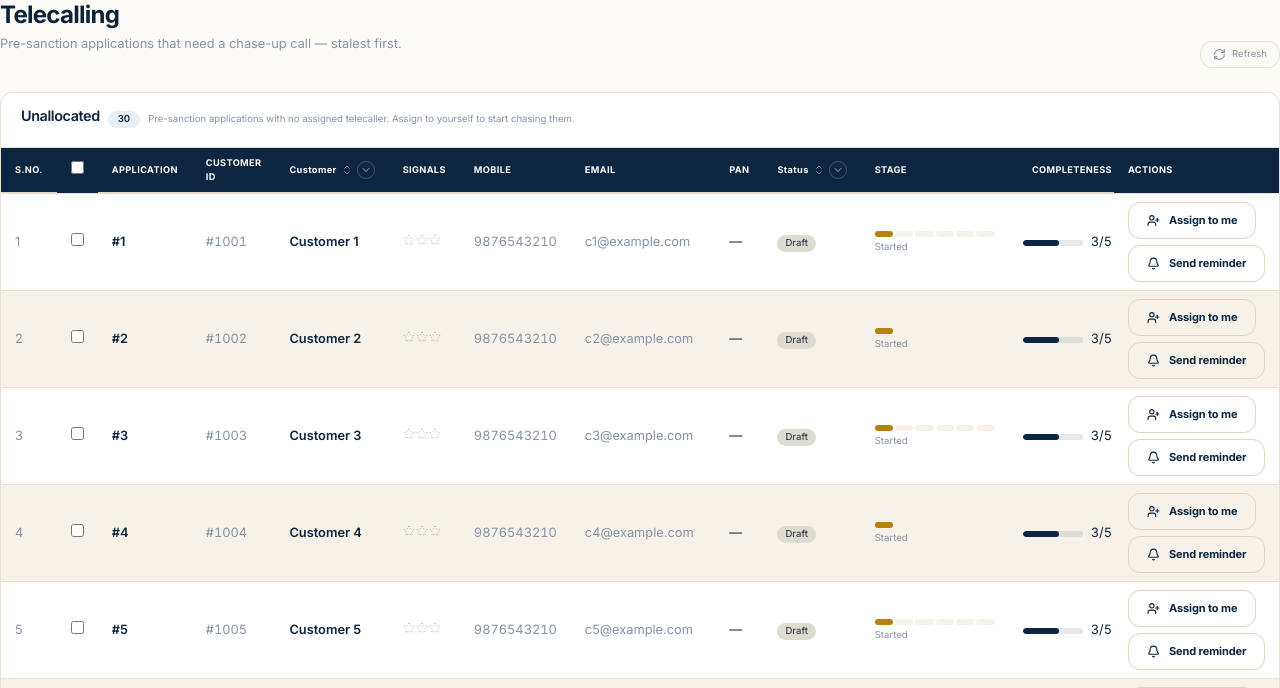
Test case: select all › ticks the visible page only, not every row in the section
The width and height of the screenshot is (1280, 688).
Expected: the button "Customer 1" is shown, [289,232,359,253]
What coordinates should you click on to do the following:
click the checkbox named "Select all on this page"
I would click on:
 (77, 168)
Its box is [71,162,84,174].
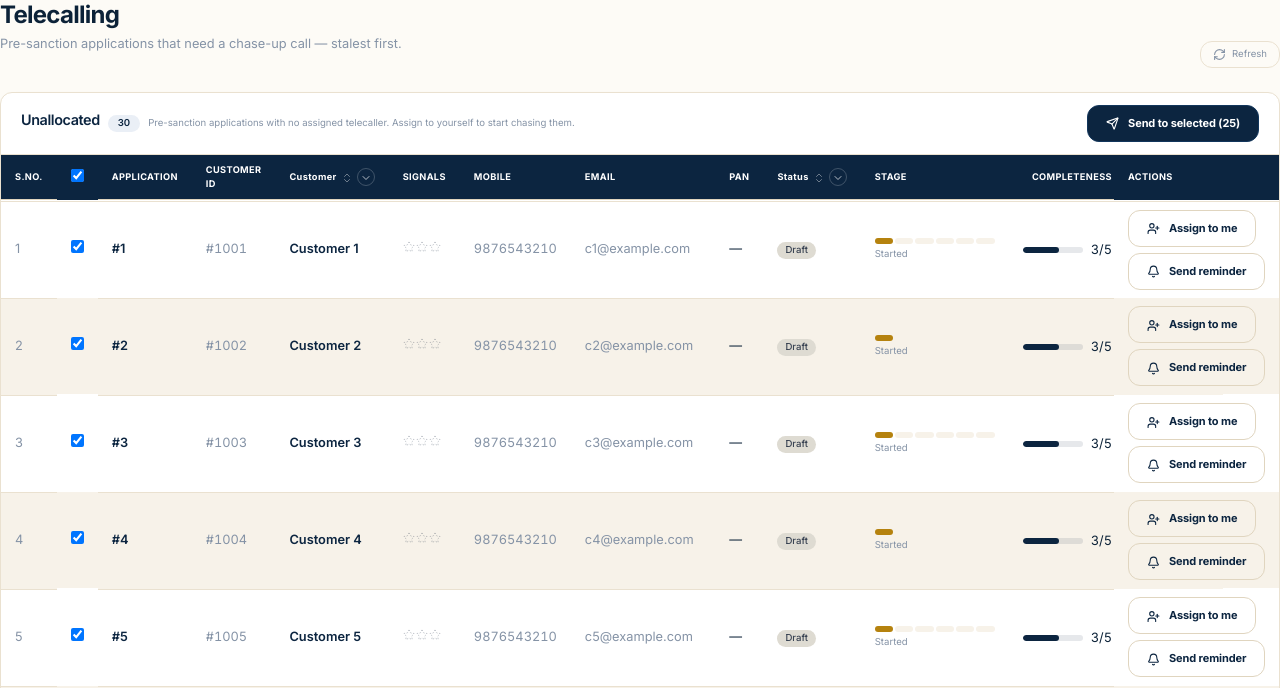
Expected: the button "Send to selected (25)" is shown, [1087,105,1259,142]
What coordinates should you click on to do the following:
click the checkbox named "Select all on this page"
I would click on:
 (77, 175)
Its box is [71,169,84,182].
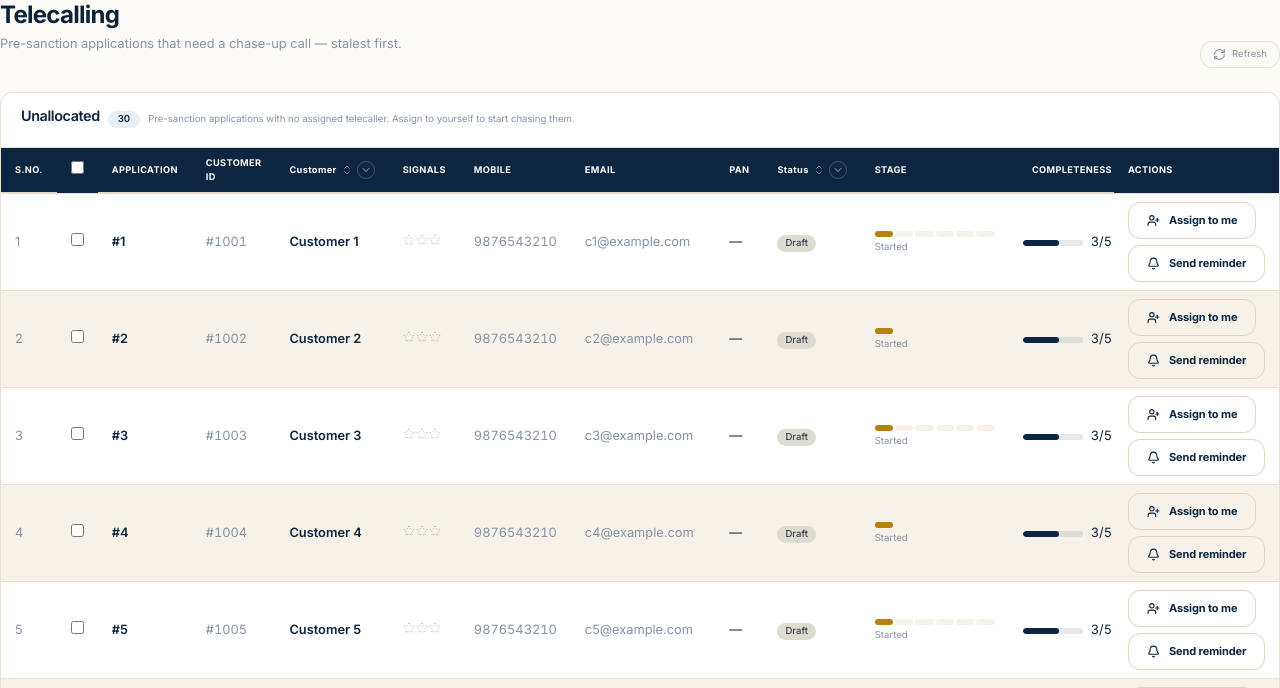
Expected: the button "Send to selected" is gone
